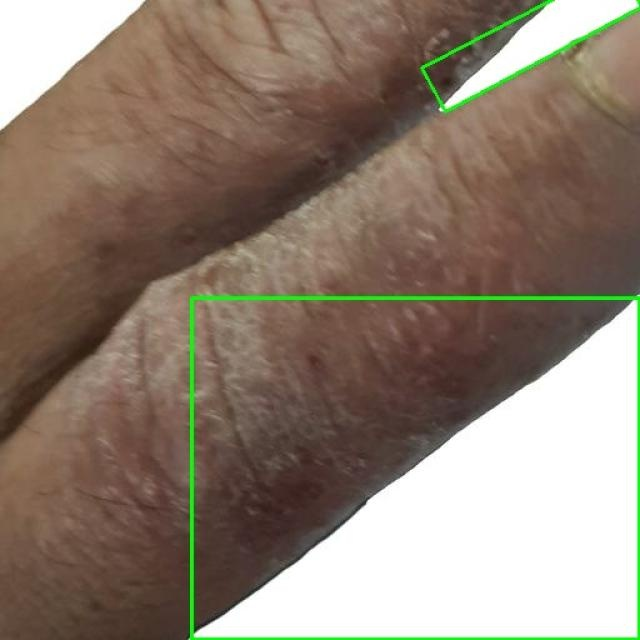Contact Dermatitis: (191, 298, 639, 639), (422, 0, 640, 112)
